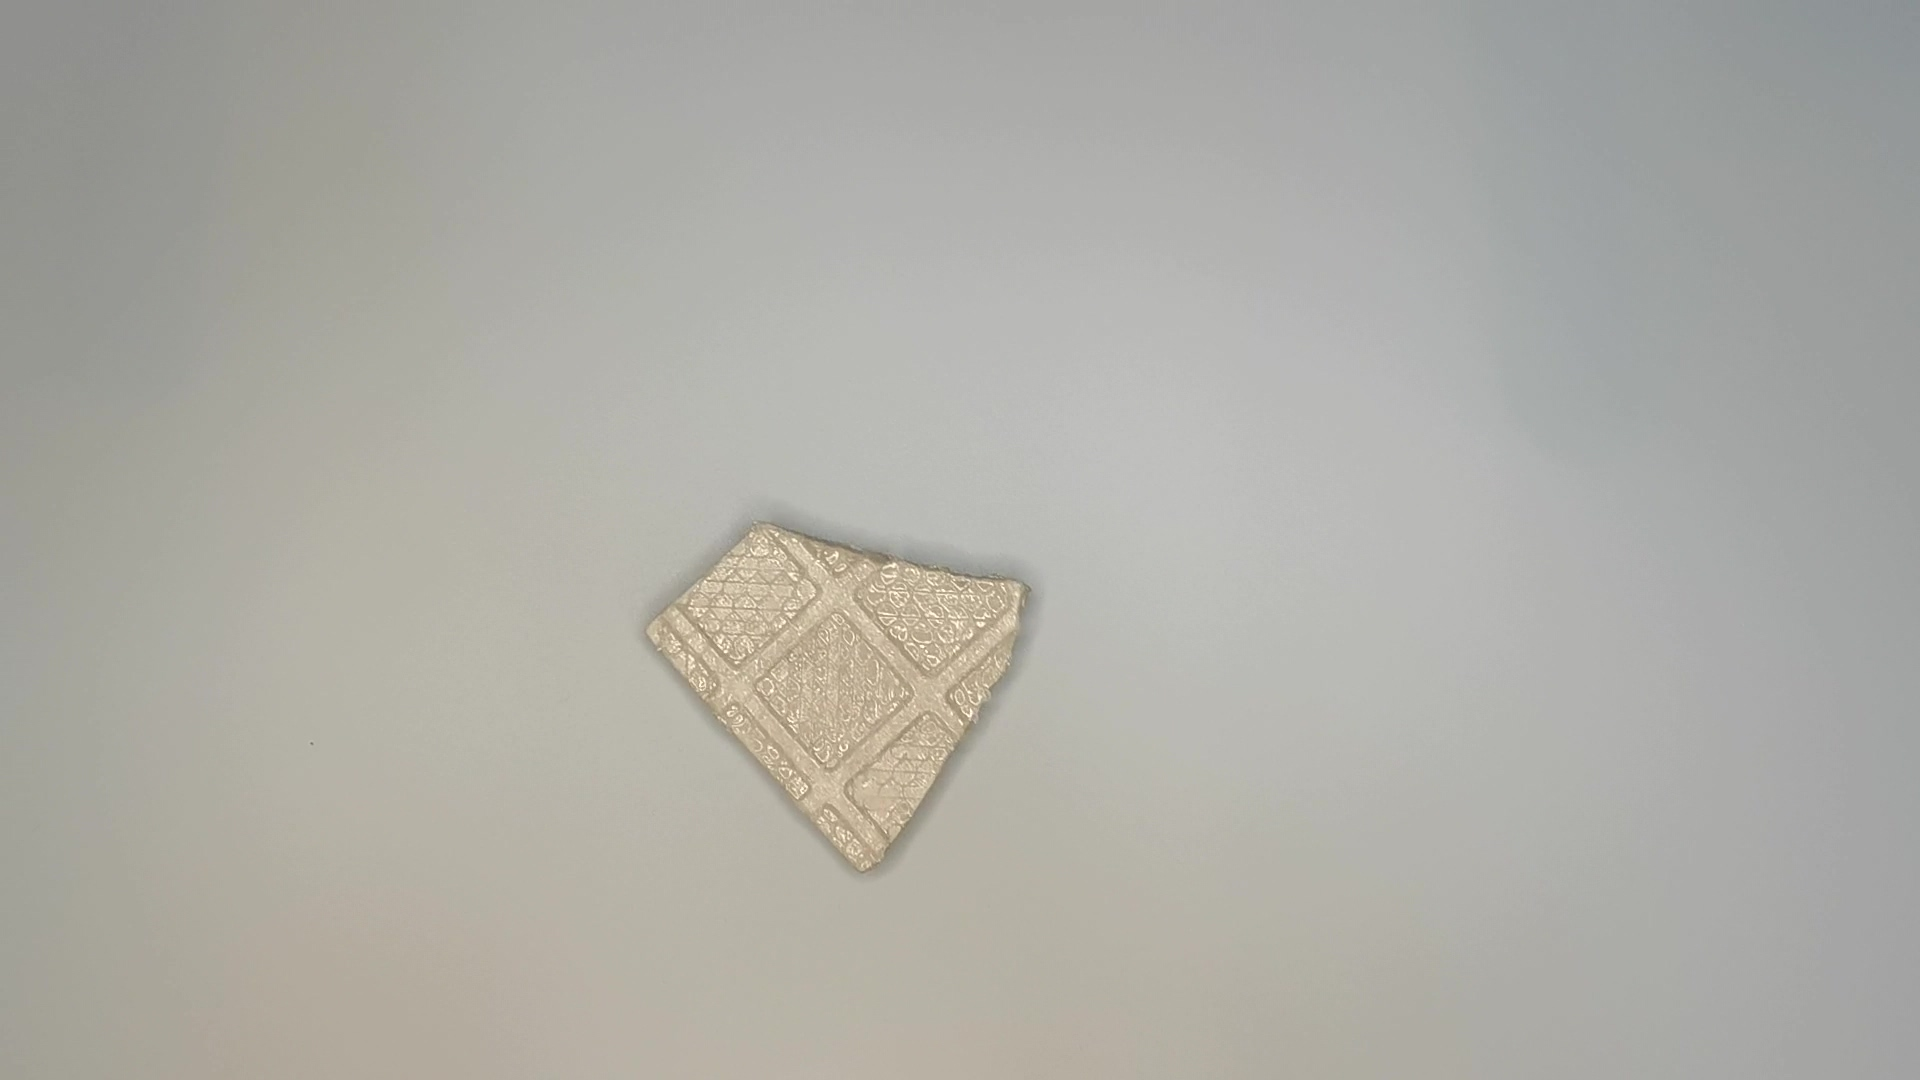ceramic: (644, 517, 1044, 886)
